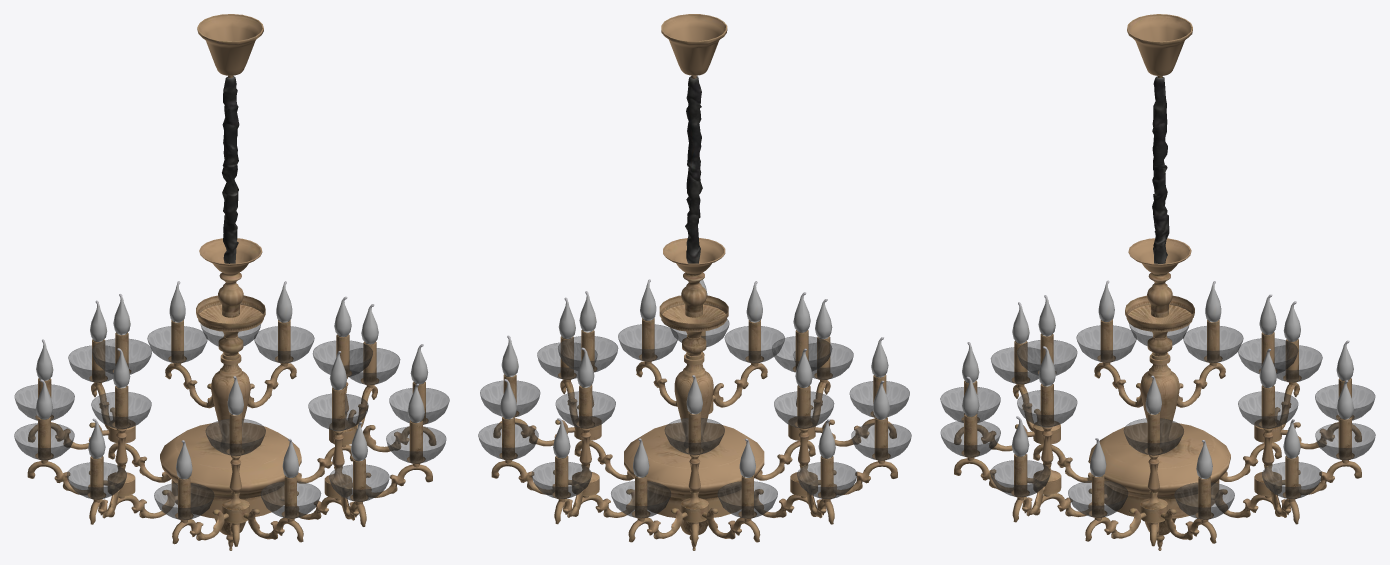
The model's file is Chandelier_03.glb.
3 views of the same model, side by side, from view 1: azimuth 30°, elevation 25°; view 2: azimuth 150°, elevation 25°; view 3: azimuth 270°, elevation 25° (orthographic).
Visible parts, largest first — view 1: Chandelier_03; view 2: Chandelier_03; view 3: Chandelier_03.
Boxes of the visible parts, <box> form: Chandelier_03: <box>14,14,449,550</box>; Chandelier_03: <box>478,14,911,550</box>; Chandelier_03: <box>940,14,1375,550</box>.
Size of the model in its own units: 0.7804 by 1.04 by 0.7855.
Materials: 2 (2 with a texture image).
